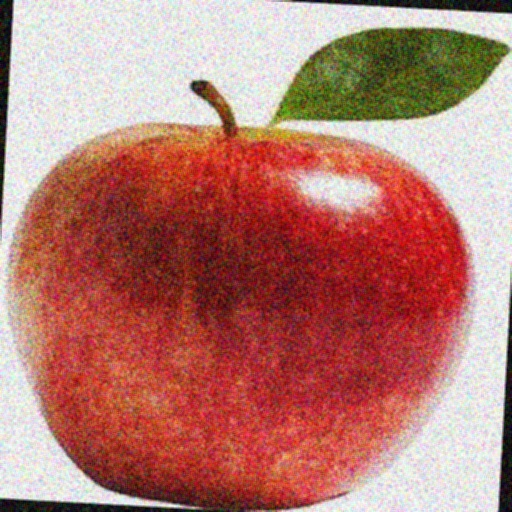fruit: (421, 157, 505, 512)
